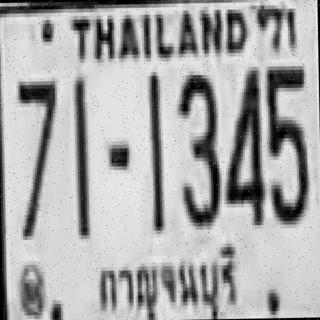N01: (73, 75, 89, 237), (147, 72, 162, 226), (147, 76, 162, 230)
N03: (174, 71, 218, 222)
N04: (222, 66, 263, 222)
N05: (265, 62, 308, 221)
N07: (16, 77, 57, 236)
P17: (92, 242, 244, 320)
